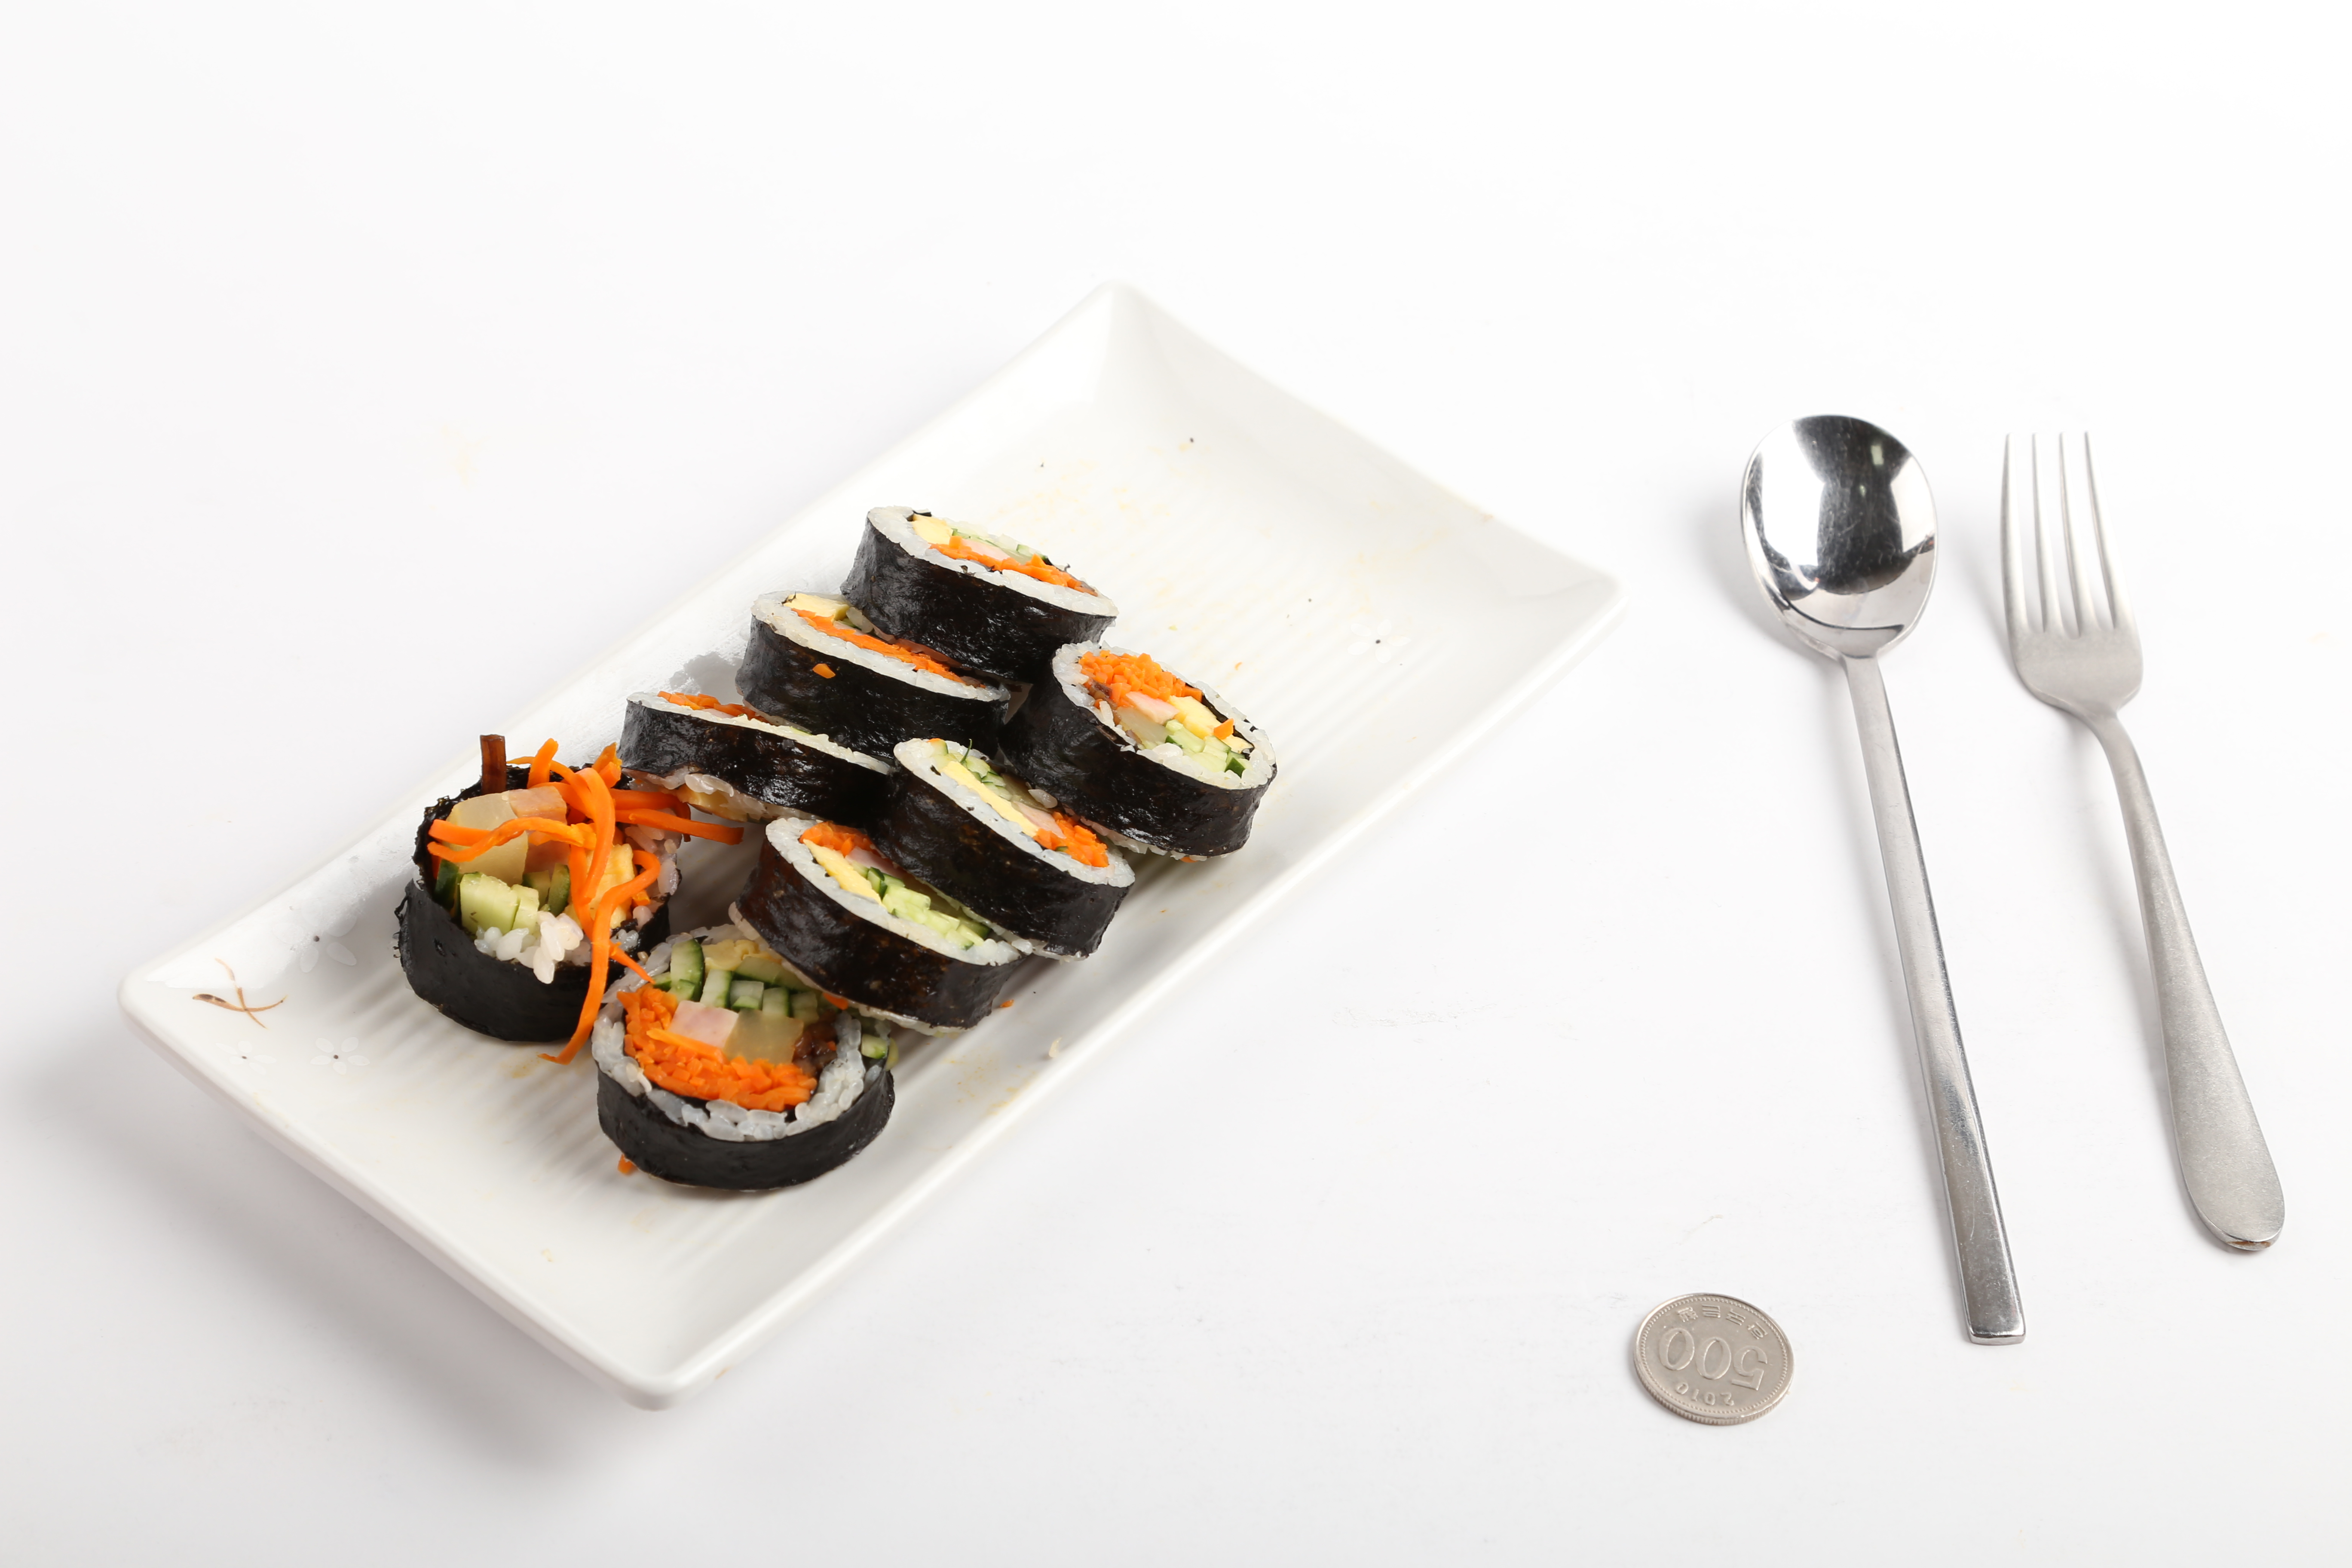dish: (114, 271, 1634, 1416)
ref_coin: (1622, 1281, 1797, 1437)
ref_fork: (1988, 416, 2149, 796)
ref_spoon: (1731, 397, 1941, 730)
김밥: (388, 497, 1274, 1204)
